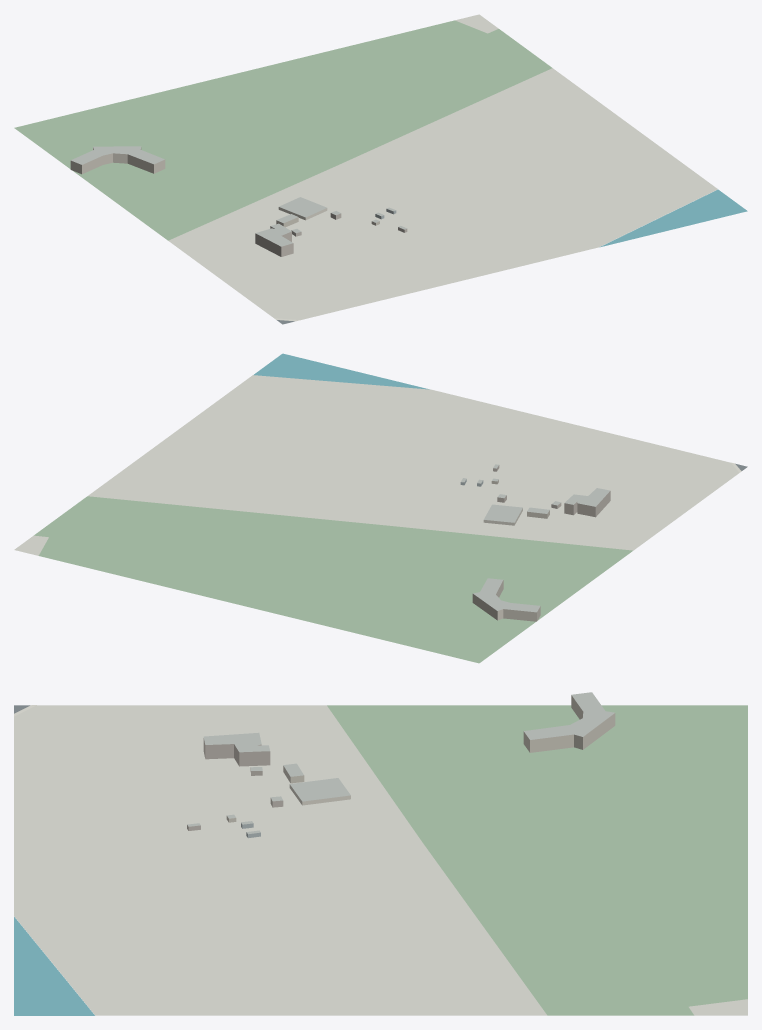
3 views of the same model, one above another, from view 1: azimuth 30°, elevation 25°; view 2: azimuth 150°, elevation 25°; view 3: azimuth 270°, elevation 25° (orthographic). The views are drawn at different scales.
Visible parts, largest first — view 1: city; view 2: city; view 3: city.
Boxes of the visible parts, left/top/right/bottom form: city: left=14, top=14, right=747, bottom=324; city: left=14, top=353, right=747, bottom=663; city: left=14, top=692, right=747, bottom=1015.
Bounding box in the file's own units: 501 × 10.88 × 500.
